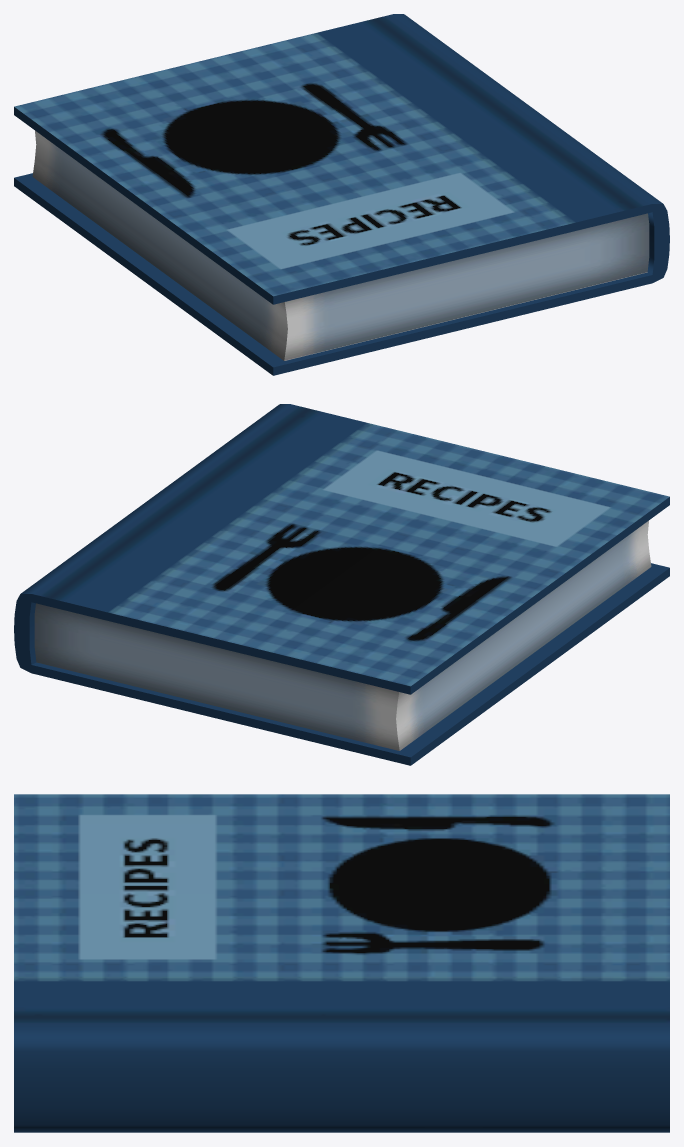
The model's file is Onion_Recipebook.fbx.
3 renders of one model, top to bottom at view 1: azimuth 30°, elevation 25°; view 2: azimuth 150°, elevation 25°; view 3: azimuth 270°, elevation 25°, orthographic. The views are drawn at different scales.
Parts seen in each view (by area): view 1: Onion_Recipebook; view 2: Onion_Recipebook; view 3: Onion_Recipebook.
Boxes of the visible parts, x1,y1,x2,y2 form: Onion_Recipebook: [14, 14, 669, 375]; Onion_Recipebook: [14, 404, 669, 765]; Onion_Recipebook: [14, 794, 669, 1132].
Size of the model in its own units: 1.01 by 0.1935 by 1.14.
Materials: 1 (1 with a texture image).
